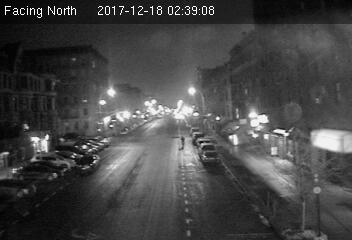bicycle: (179, 135, 188, 152)
car: (73, 154, 100, 174), (200, 149, 220, 165)
